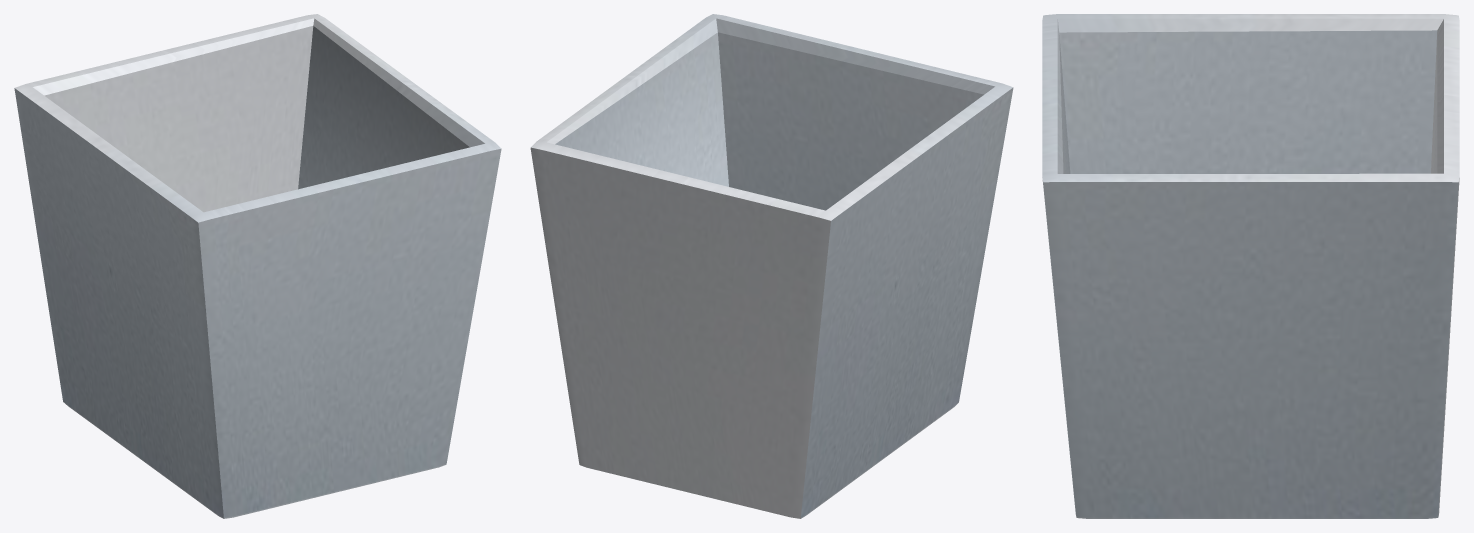
Rendered from Glass Cup_v2.fbx.
3 views of the same model, side by side, from view 1: azimuth 30°, elevation 25°; view 2: azimuth 150°, elevation 25°; view 3: azimuth 270°, elevation 25° (orthographic). The views are drawn at different scales.
Parts seen in each view (by area): view 1: pCube2; view 2: pCube2; view 3: pCube2.
Boxes of the visible parts, box(x1,y1,x2,y2) form: pCube2: box(14, 14, 501, 518); pCube2: box(530, 14, 1013, 518); pCube2: box(1042, 14, 1459, 518).
Size of the model in its own units: 4.23 by 4.26 by 4.44.
Materials: 1 (1 with a texture image).
